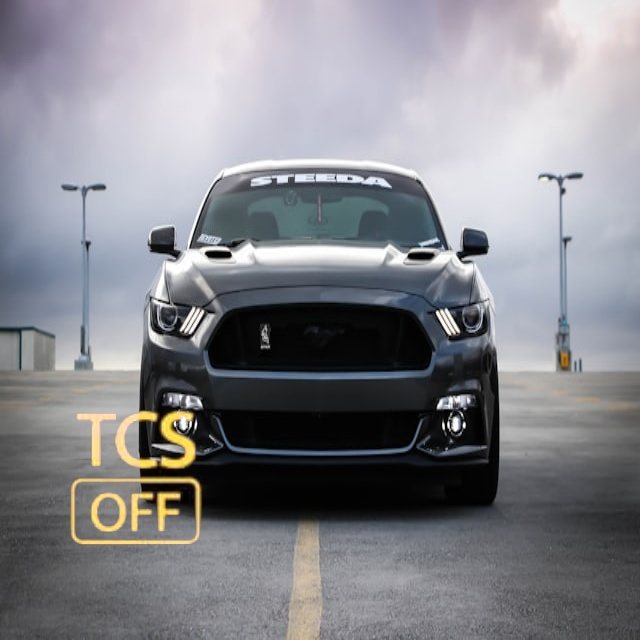symbol: (32, 375, 244, 587), (80, 68, 264, 252)
